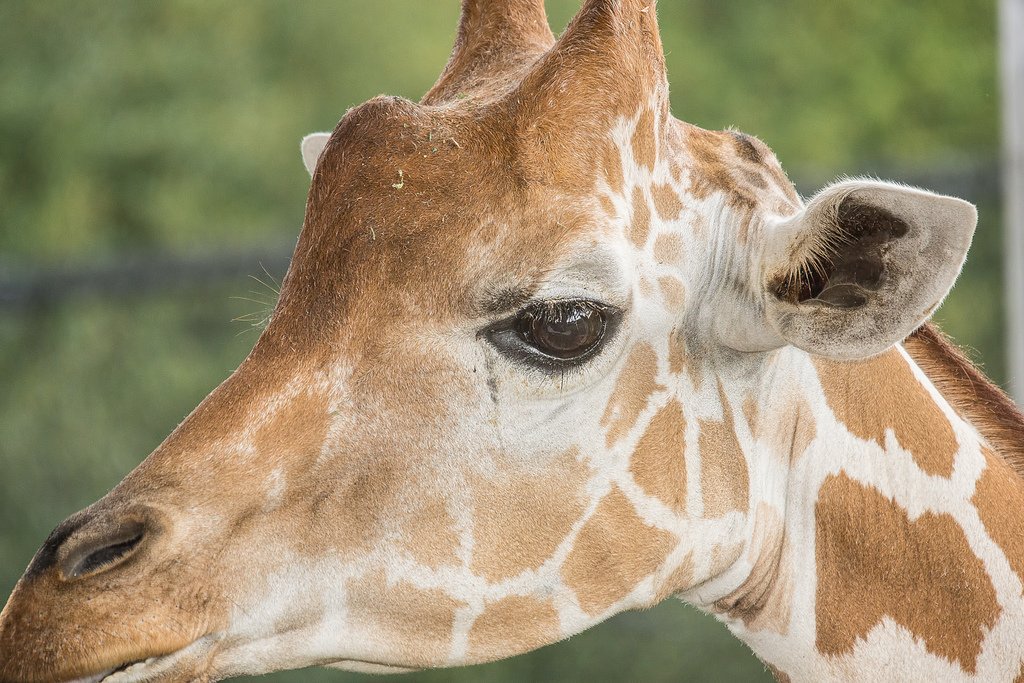giraffe: (34, 16, 991, 673)
